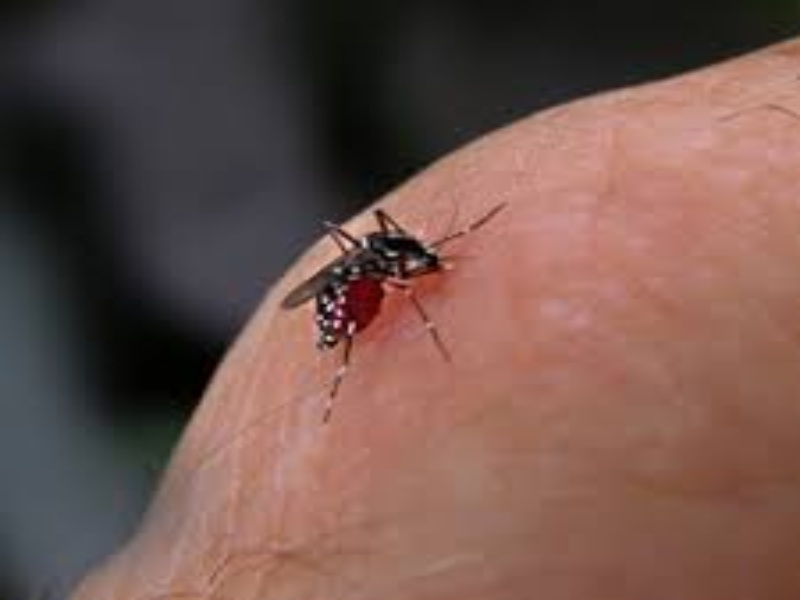dengue_mosquito: (279, 207, 451, 369)
